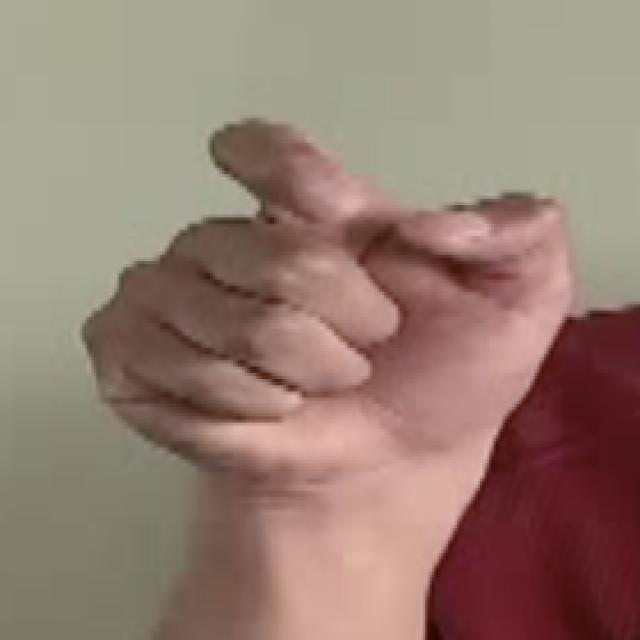Q: (79, 99, 581, 496)
